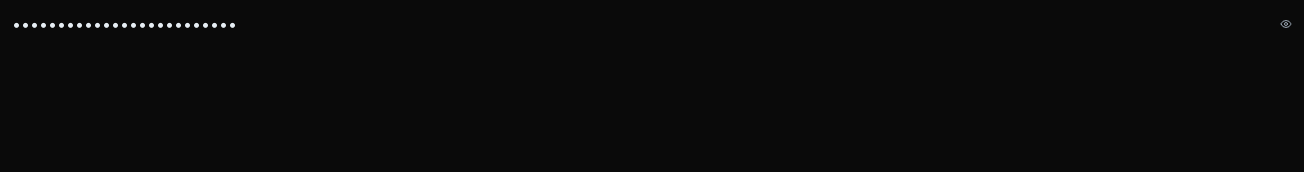
Test: PasswordField › keeps the password hidden by default and reveals it on demand
This screenshot has width=1304, height=172.
Step 1. Click the button named "Show password" → point(1286, 24), box [1280,12,1292,36]
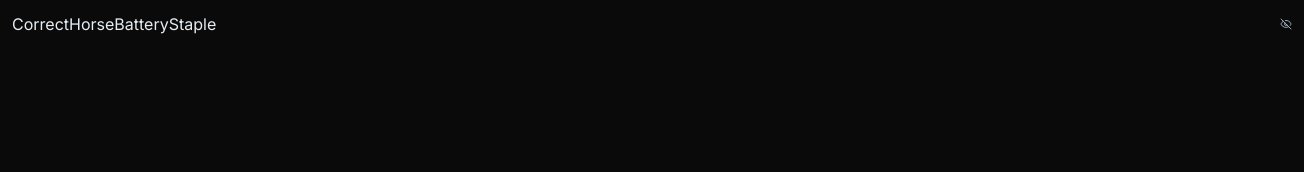
Expected: the field named "Password" holds "CorrectHorseBatteryStaple", [12,12,258,36]
Expected: the field named "Password" shows its text, [12,12,258,36]
Step 2. Click the button named "Hide password" → point(1286, 24), box [1280,12,1292,36]
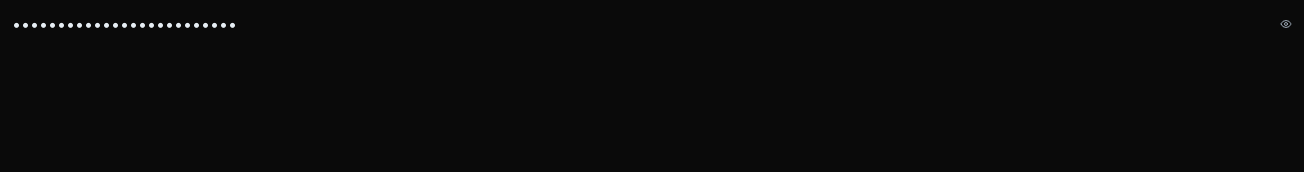
Expected: the password field named "Password" hides its text, [12,12,258,36]
